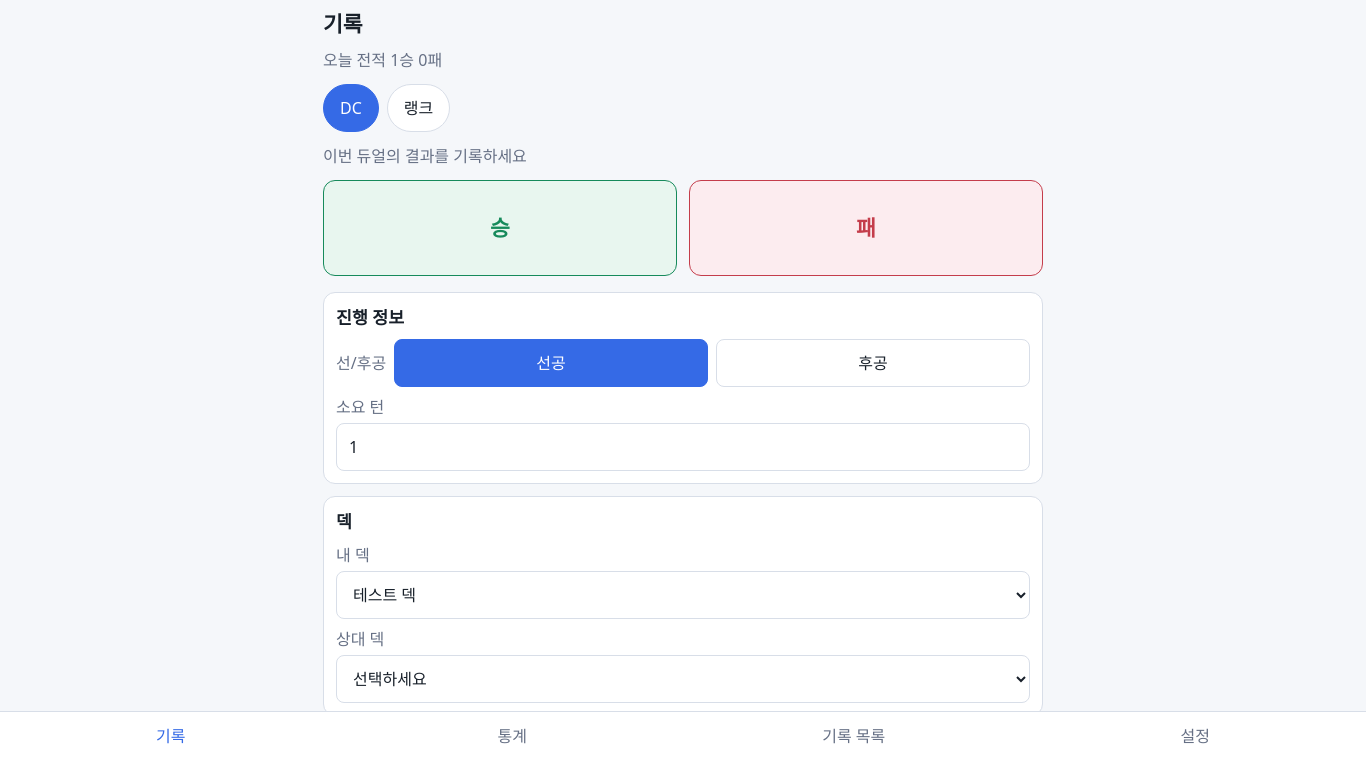
MDL-210-07 성공 영수증 이후 선택적 취향 저장 › QuotaExceededError, 후속 조회 실패=false
The image size is (1366, 760).
Click the button "승" at (500, 228), box x1=323 y1=180 x2=677 y2=276
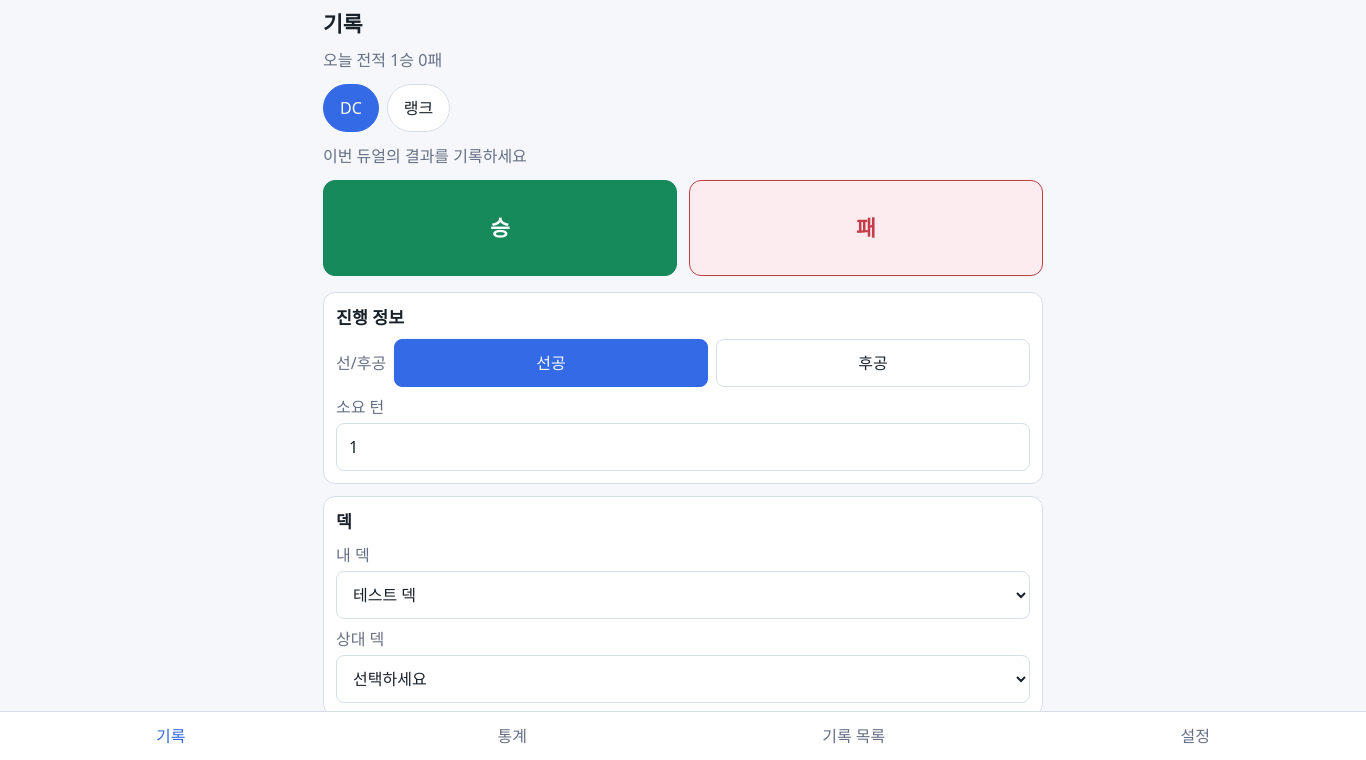
Select "상대 덱" in the dropdown labelled "상대 덱" at (683, 679), box x1=336 y1=655 x2=1030 y2=703
(page scrolled)
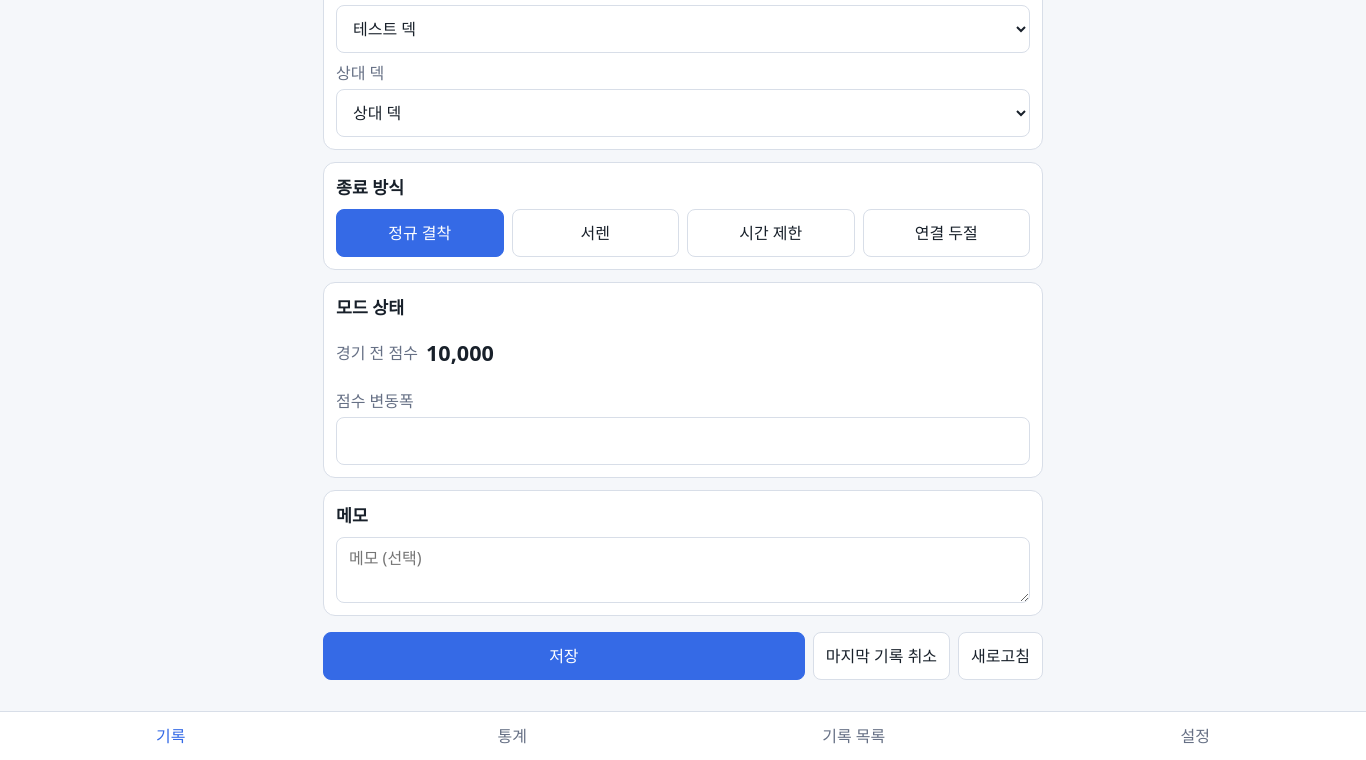
Type "100" into the number field labelled "점수 변동폭" at (683, 441), box x1=336 y1=417 x2=1030 y2=465
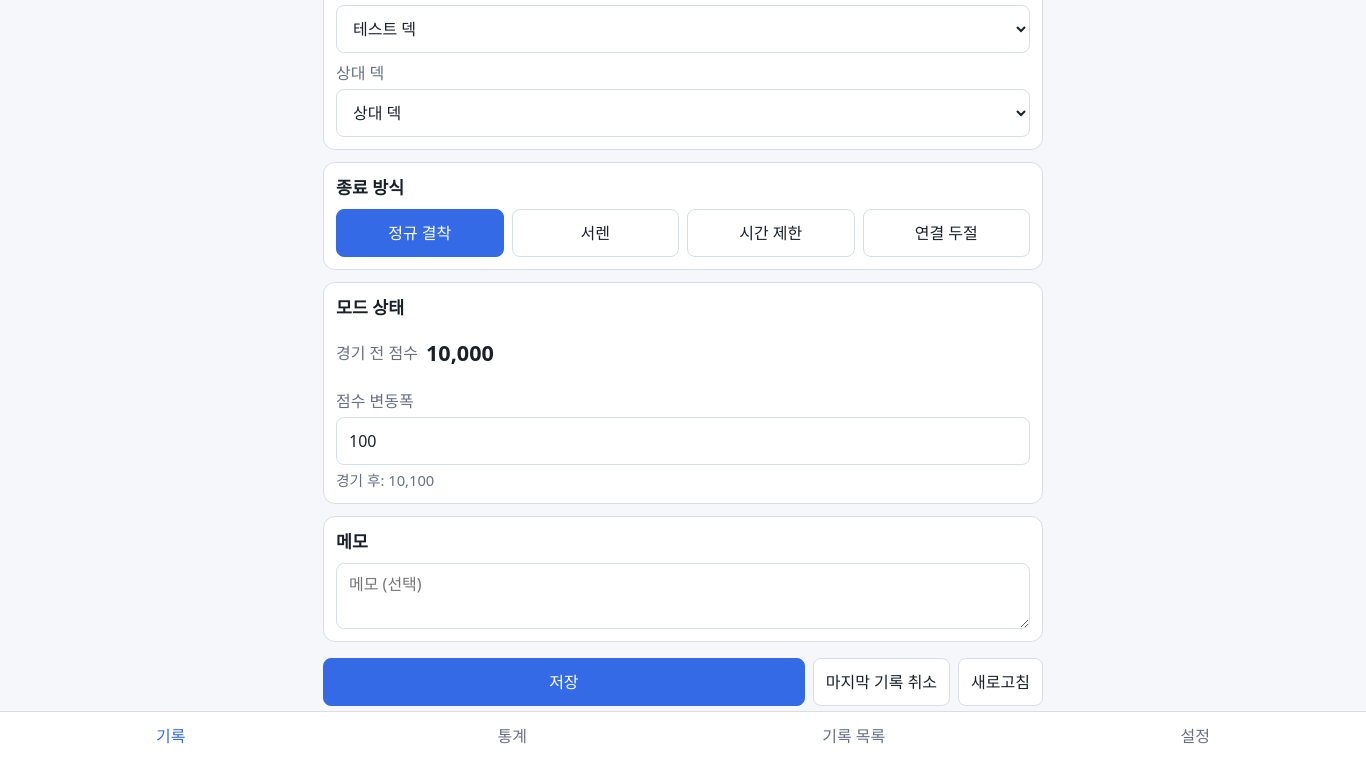
Click the button "저장" at (564, 682), box x1=323 y1=658 x2=805 y2=706
(page scrolled)
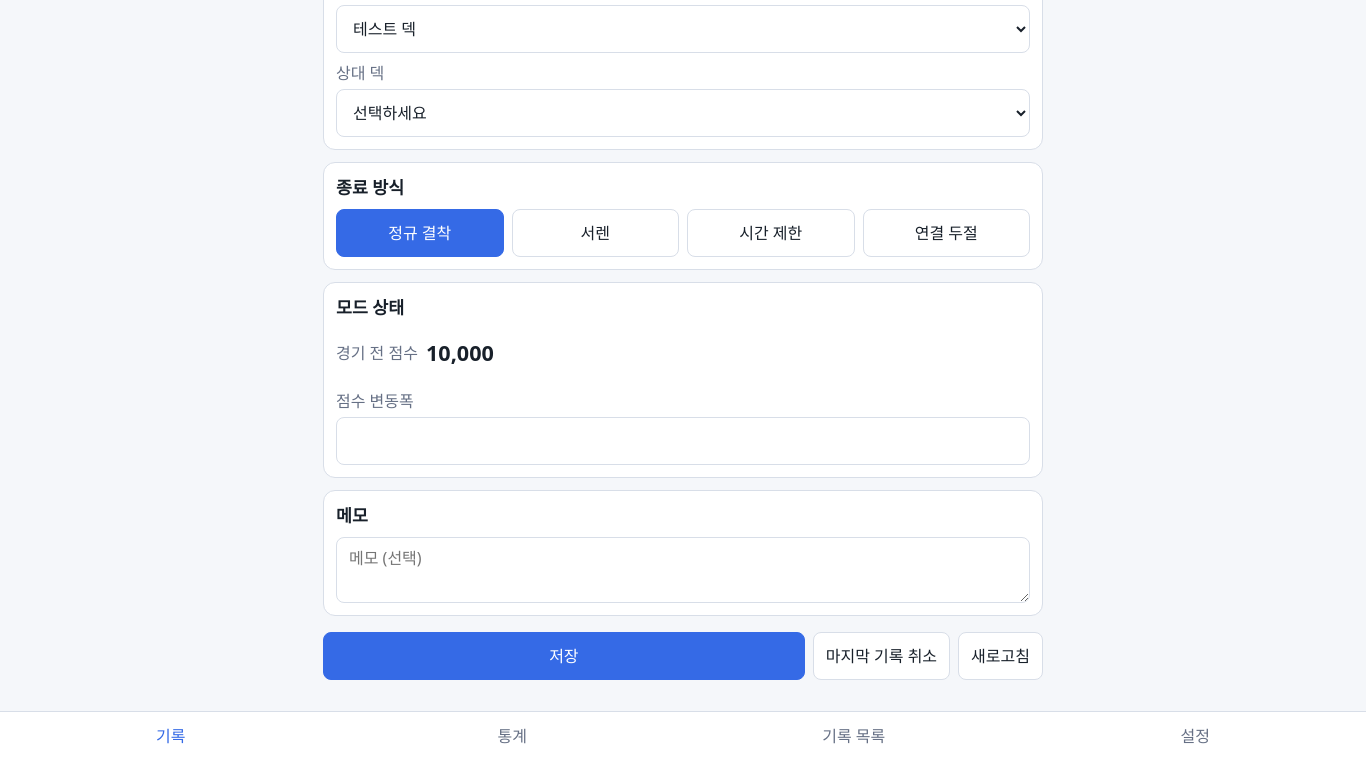
Now the number field labelled "점수 변동폭" is not empty, box x1=336 y1=417 x2=1030 y2=465
Click the button "마지막 기록 취소" at (881, 656), box x1=813 y1=632 x2=950 y2=680
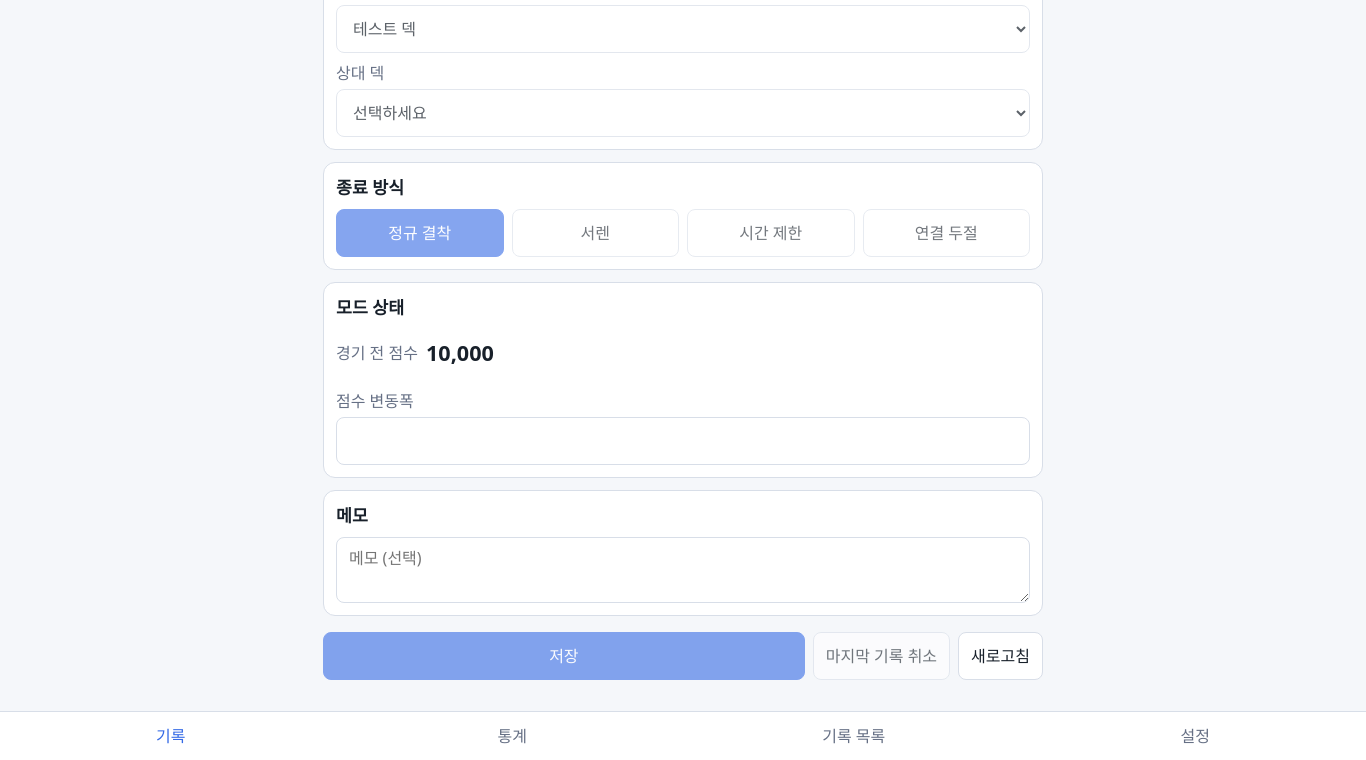
Now the button "마지막 기록 취소" is disabled, box x1=813 y1=632 x2=950 y2=680
